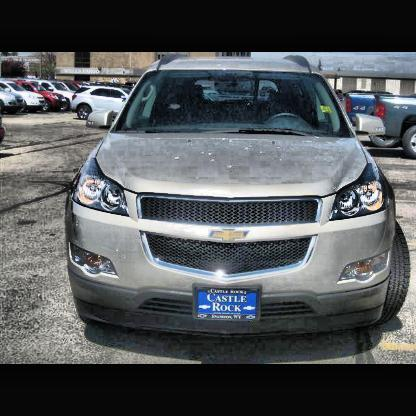Chevrolet Traverse SUV 2012: (63, 55, 413, 342)
